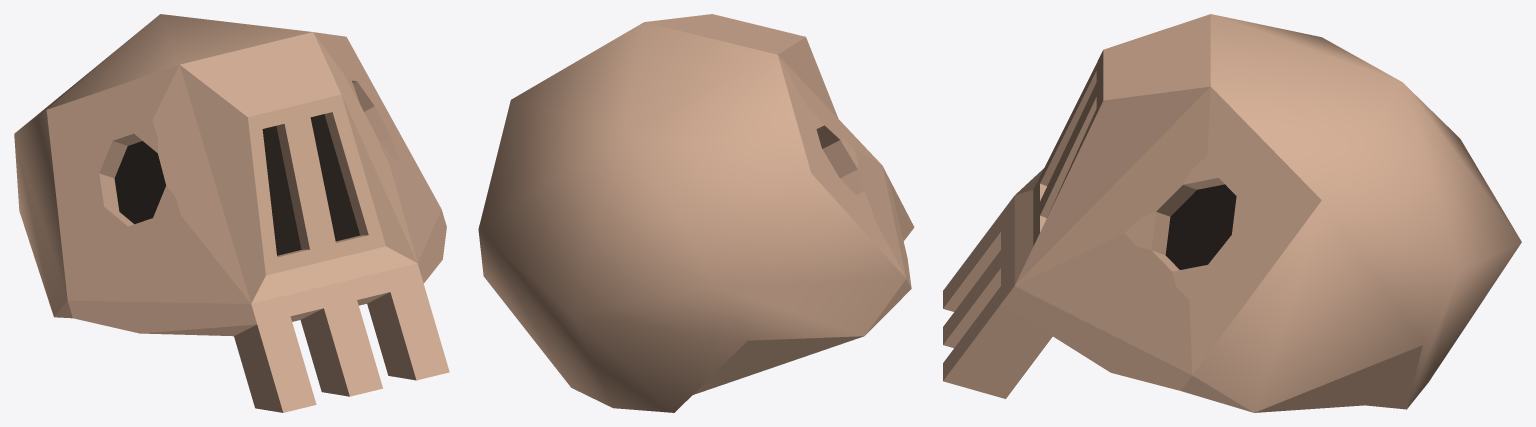
File: Skull.FBX
The picture shows the model from 3 angles, left to right: view 1: azimuth 30°, elevation 25°; view 2: azimuth 150°, elevation 25°; view 3: azimuth 270°, elevation 25°; orthographic projection. The views are drawn at different scales.
Visible parts, largest first — view 1: skull002; view 2: skull002; view 3: skull002.
Part boxes in pixels (bbox=[...]): skull002: bbox=[14, 14, 449, 412]; skull002: bbox=[478, 14, 914, 412]; skull002: bbox=[943, 14, 1521, 412].
Bounding box in the file's own units: 4.19 × 3.19 × 5.04.
